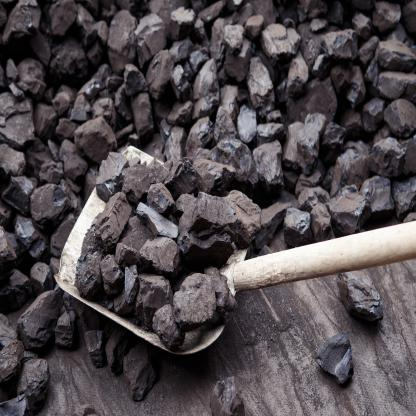Sedimentary_coal: (171, 268, 229, 327), (18, 280, 68, 342), (103, 6, 148, 74), (310, 338, 368, 388), (0, 89, 41, 154), (187, 56, 229, 118), (184, 185, 232, 239), (239, 50, 280, 109), (343, 275, 388, 325), (69, 115, 119, 160), (218, 138, 256, 193), (139, 231, 182, 279), (257, 19, 296, 71), (146, 300, 184, 348), (51, 4, 92, 48), (325, 22, 364, 68), (15, 360, 58, 401), (2, 4, 42, 48), (86, 201, 128, 242), (287, 106, 321, 154), (95, 154, 131, 198), (328, 189, 367, 229), (381, 95, 415, 140), (30, 178, 66, 218), (251, 148, 285, 184), (313, 197, 337, 247), (76, 250, 99, 298), (131, 93, 155, 134), (170, 2, 195, 38), (282, 211, 311, 239), (240, 109, 262, 142)
